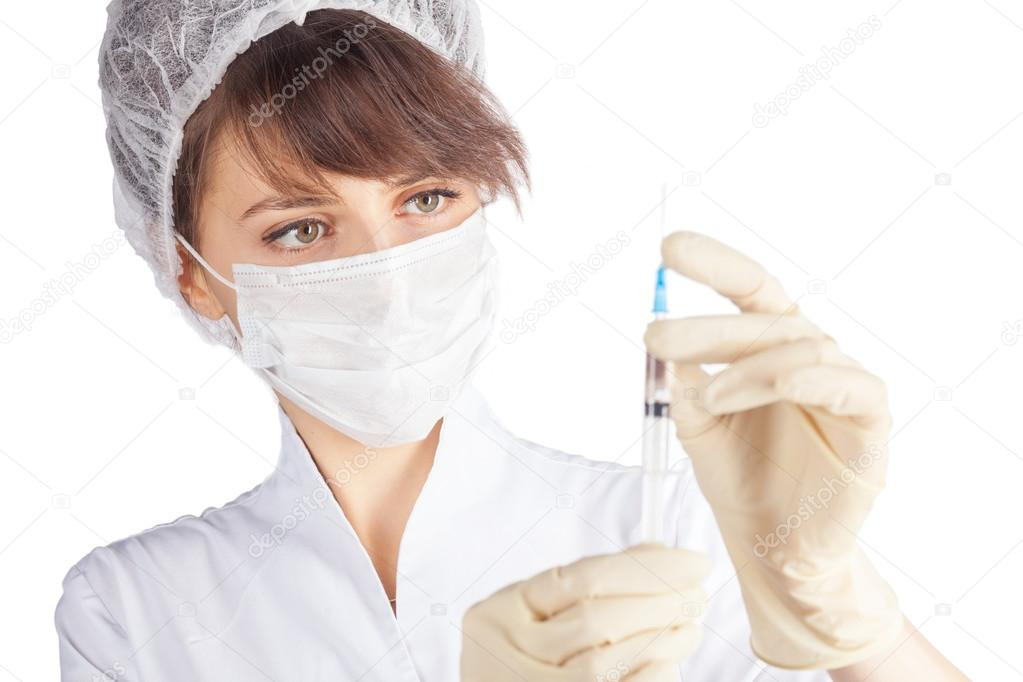mask: (233, 206, 492, 447)
